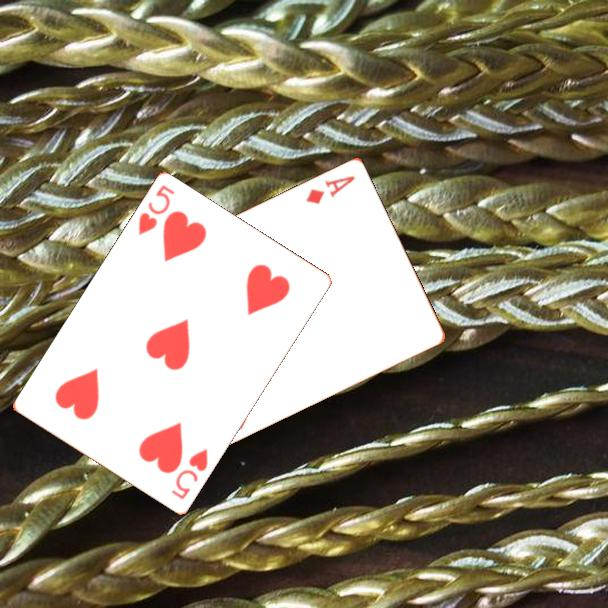d01: (302, 172, 358, 207)
h05: (168, 445, 211, 503), (135, 182, 177, 239)
